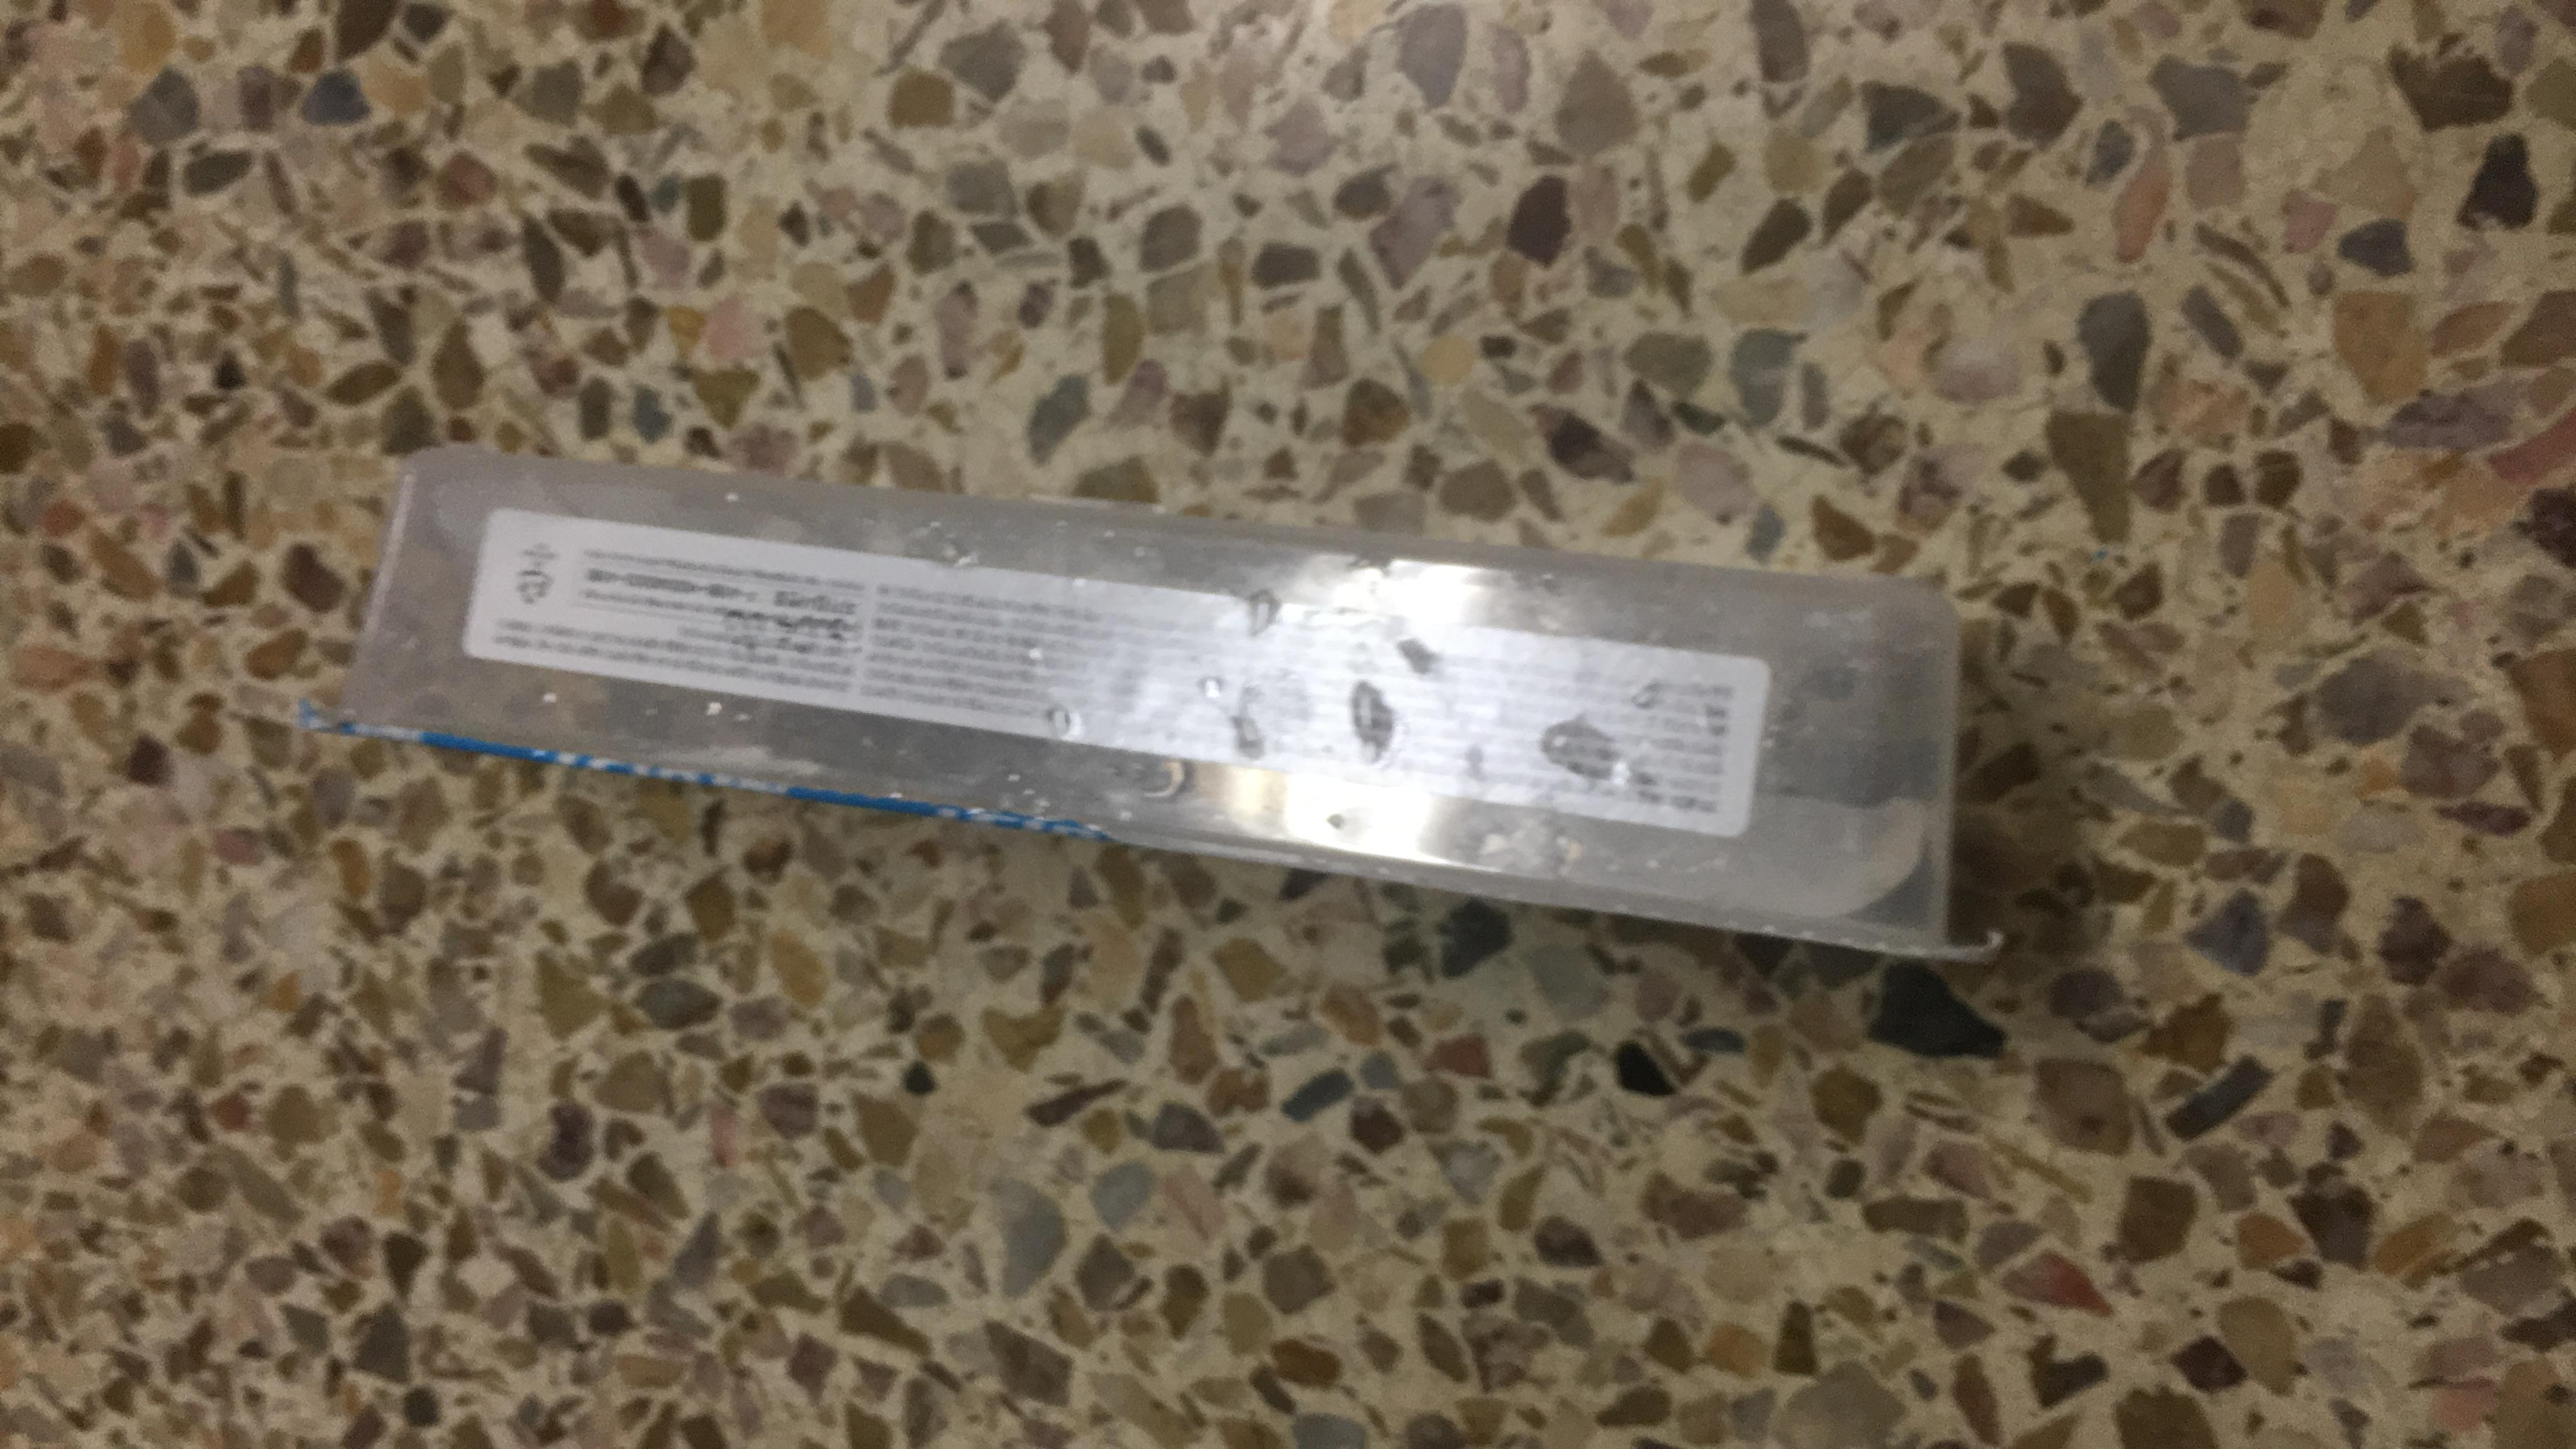bottle: (786, 127, 1895, 1166)
